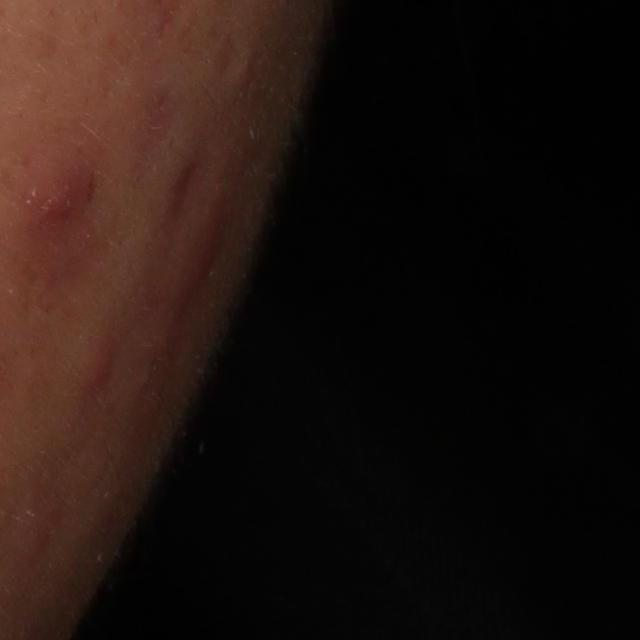papule: (20, 147, 108, 240), (75, 331, 126, 405), (184, 223, 228, 294)
